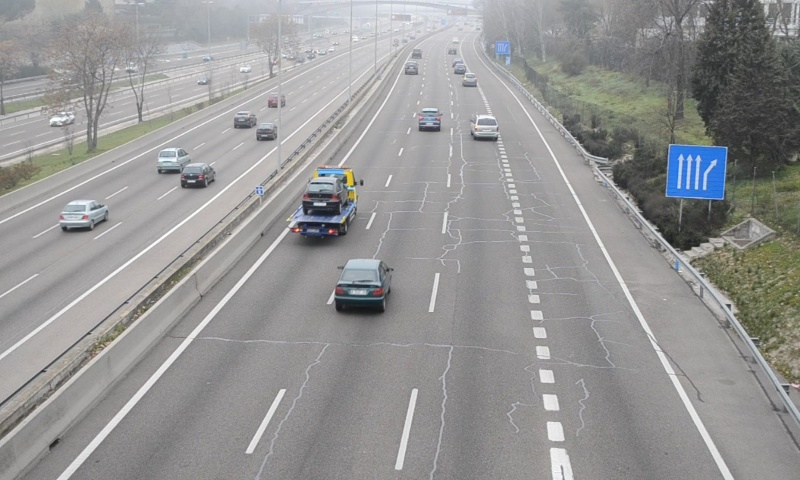car: (336, 259, 389, 304), (470, 114, 500, 140), (417, 107, 441, 130), (462, 70, 477, 87), (404, 61, 417, 74)
small-truck: (287, 165, 357, 239)
